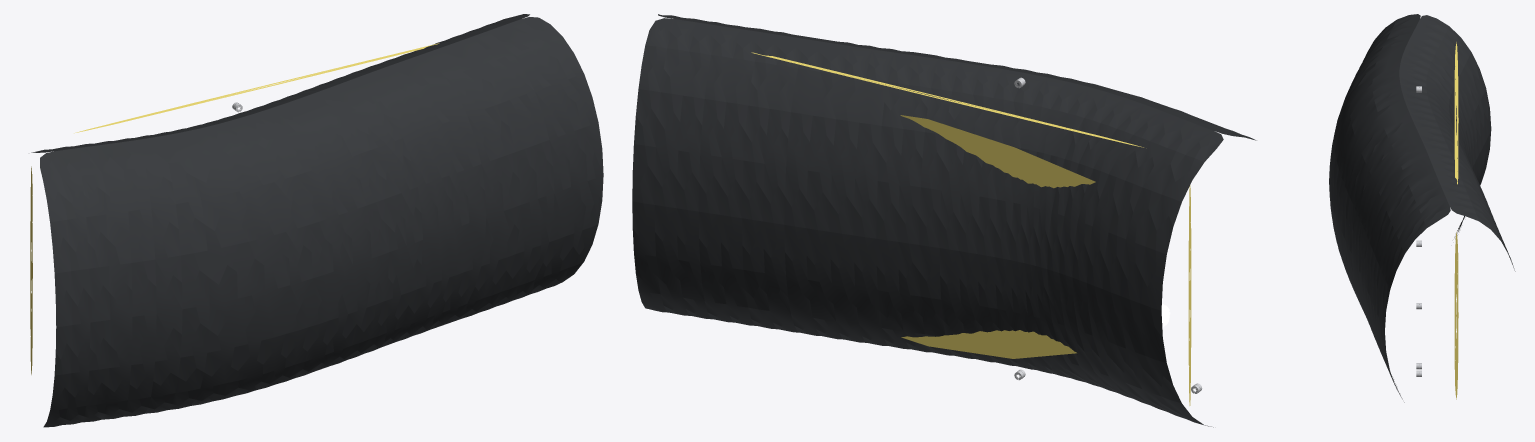
Rendered from engine_cover_f1_pneumatic_carbon_plenum.glb.
3 renders of one model, left to right at view 1: azimuth 30°, elevation 25°; view 2: azimuth 150°, elevation 25°; view 3: azimuth 270°, elevation 25°, orthographic. The views are drawn at different scales.
Parts seen in each view (by area): view 1: Model12_F1_Pneumatic_Carbon_Plenum_Cover; view 2: Model12_F1_Pneumatic_Carbon_Plenum_Cover; view 3: Model12_F1_Pneumatic_Carbon_Plenum_Cover.
Boxes of the visible parts, <box> form: Model12_F1_Pneumatic_Carbon_Plenum_Cover: <box>30,14,603,427</box>; Model12_F1_Pneumatic_Carbon_Plenum_Cover: <box>632,14,1256,427</box>; Model12_F1_Pneumatic_Carbon_Plenum_Cover: <box>1329,14,1515,402</box>.
Size of the model in its own units: 0.6522 by 0.3082 by 0.2409.
